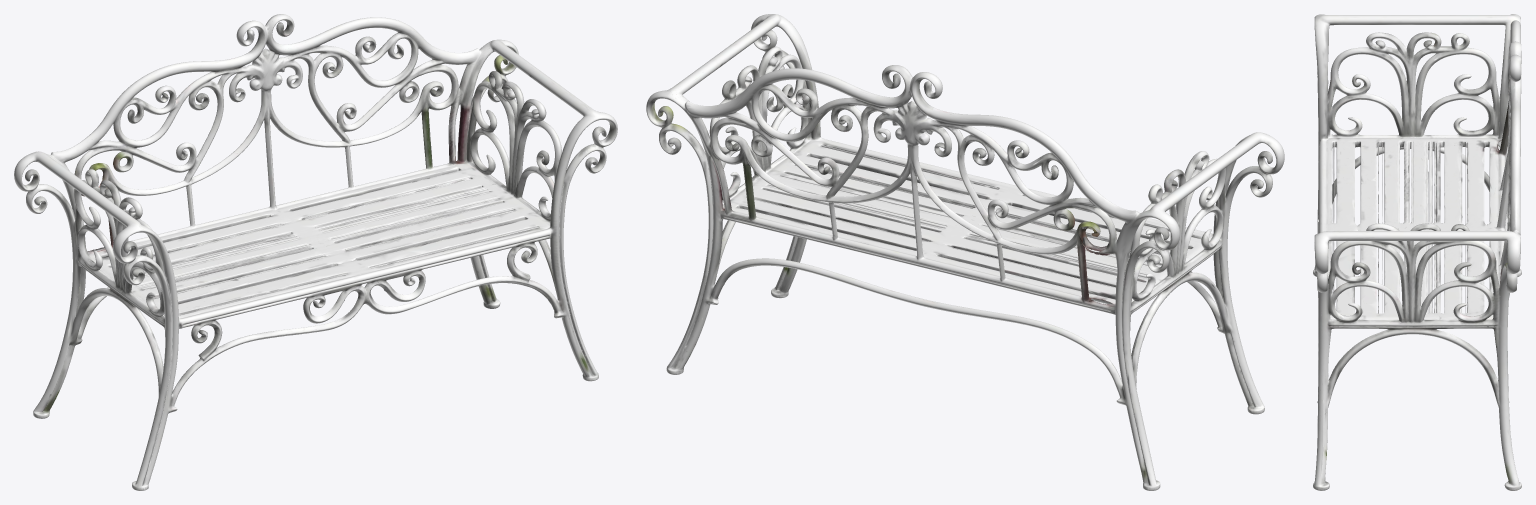
Rendered from chair.glb.
3 views of the same model, side by side, from view 1: azimuth 30°, elevation 25°; view 2: azimuth 150°, elevation 25°; view 3: azimuth 270°, elevation 25° (orthographic). The views are drawn at different scales.
Parts seen in each view (by area): view 1: node_0; view 2: node_0; view 3: node_0.
Part boxes in pixels (box(x1,y1,x2,y2)): node_0: box(14, 14, 617, 490); node_0: box(646, 14, 1284, 490); node_0: box(1313, 14, 1521, 490).
Bounding box in the file's own units: 1.02 × 0.6613 × 0.3769.
1 material, 1 textured.
